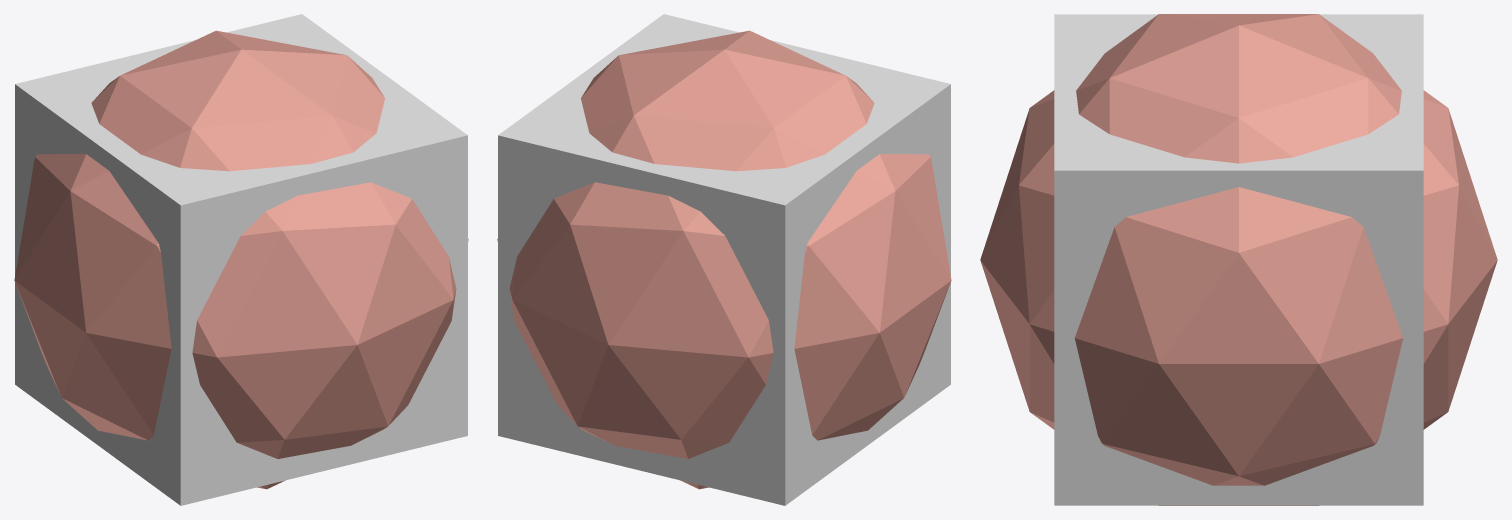
3 views of the same model, side by side, from view 1: azimuth 30°, elevation 25°; view 2: azimuth 150°, elevation 25°; view 3: azimuth 270°, elevation 25° (orthographic). The views are drawn at different scales.
Parts seen in each view (by area): view 1: Icosphere, Cube; view 2: Icosphere, Cube; view 3: Icosphere, Cube.
Boxes of the visible parts, x1,y1,x2,y2 form: Icosphere: (14,30,468,489); Cube: (15,14,467,505); Icosphere: (497,30,951,489); Cube: (498,14,950,505); Icosphere: (980,14,1497,505); Cube: (1054,14,1423,505).
Size of the model in its own units: 2.66 by 2.8 by 2.8.
